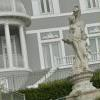Statue: (58, 2, 92, 78)
